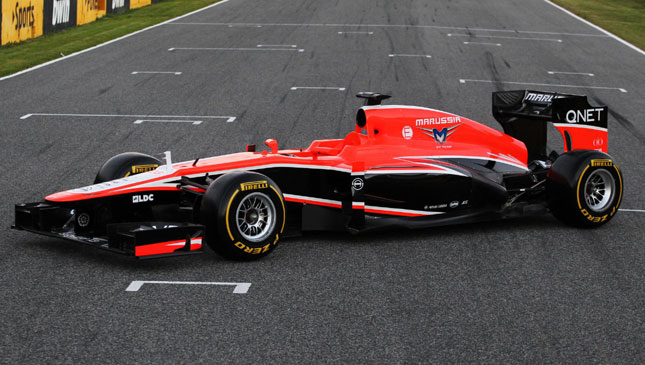f1_car: (7, 80, 629, 278)
